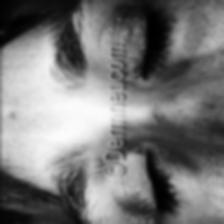Non-Cancerous Skin Condition: (106, 0, 148, 74), (121, 172, 148, 224), (88, 156, 106, 185), (2, 109, 22, 120)
